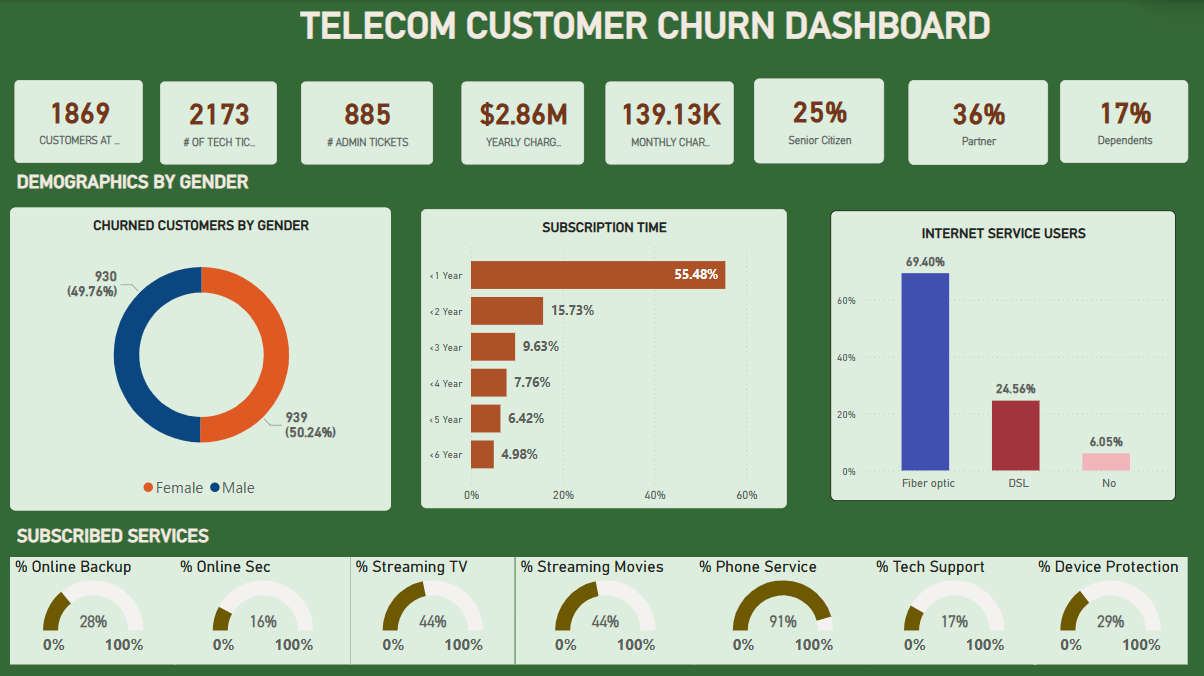

The dashboard page shown, as its layout file describes it:
{"tool":"powerbi","page":{"name":"Customer Churn Dashboard - 1","canvas":[1280,720],"ordinal":0},"visuals":[{"type":"textbox","box":[315.6,0,810.7,83.2],"z":1000},{"type":"donutChart","title":"CHURNED CUSTOMERS BY GENDER","fields":{"Category":["01 Churn-Dataset.gender"],"Y":["CountNonNull(01 Churn-Dataset.gender)"]},"box":[12,220.7,404,321.3],"z":1000,"group":"g1"},{"type":"card","fields":{"Values":["CountNonNull(01 Churn-Dataset.customerID)"]},"box":[18,86,136,88],"z":2000},{"type":"textbox","box":[0,166,630,50],"z":2000,"group":"g1"},{"type":"textbox","box":[0,542,522.6,50],"z":2000,"group":"g2"},{"type":"card","fields":{"Values":["Churn.% of Senior Citizen"]},"box":[802,84,138,90],"z":3000,"group":"g1"},{"type":"card","fields":{"Values":["Sum(01 Churn-Dataset.numTechTickets)"]},"box":[172,88,124,88],"z":3000},{"type":"card","fields":{"Values":["Churn.% of partner"]},"box":[966,86,148,90],"z":4000,"group":"g1"},{"type":"card","fields":{"Values":["Sum(01 Churn-Dataset.TotalCharges)"]},"box":[492,88,130,88],"z":4000},{"type":"card","fields":{"Values":["Sum(01 Churn-Dataset.numAdminTickets)"]},"box":[322,88,140,88],"z":5000},{"type":"group","id":"g1","title":"Group 1","box":[0,84,1262,458],"z":6000},{"type":"card","fields":{"Values":["Churn.% of Dependents"]},"box":[1126,86,136,88],"z":6000,"group":"g1"},{"type":"card","fields":{"Values":["Sum(01 Churn-Dataset.MonthlyCharges)"]},"box":[644,88,136,88],"z":7000},{"type":"clusteredBarChart","title":"SUBSCRIPTION TIME","fields":{"Y":["CountNonNull(Churn.Churn)"],"Category":["Churn.Tenure(in years)"]},"box":[448,222.8,388,317.1],"z":7000,"group":"g1"},{"type":"clusteredColumnChart","title":"INTERNET SERVICE USERS","fields":{"Category":["Churn.InternetService"],"Y":["Divide(CountNonNull(Churn.InternetService), ScopedEval(CountNonNull(Churn.InternetService), []))"]},"box":[882,224,366,308],"z":8000},{"type":"gauge","fields":{"Y":["Churn.% Phone Service"]},"box":[738,592,188,114],"z":9000},{"type":"gauge","fields":{"Y":["Churn.% Online Backup"]},"box":[12,592,176,114],"z":10000},{"type":"gauge","fields":{"Y":["Churn.% Online Sec"]},"box":[188,592,186,114],"z":11000},{"type":"gauge","fields":{"Y":["Churn.% Streaming Movies"]},"box":[548,592,190,114],"z":12000},{"type":"gauge","fields":{"Y":["Churn.% Streaming TV"]},"box":[374,592,174,114],"z":13000},{"type":"gauge","fields":{"Y":["Churn.% Device Protection"]},"box":[1098,592,164,114],"z":14000},{"type":"gauge","fields":{"Y":["Churn.% Tech Support"]},"box":[926,592,176,114],"z":15000},{"type":"group","id":"g2","title":"Group 2","box":[0,542,522,50],"z":16000}]}

Visuals, with their boxes in screenshot pixels (x1, y1, x2, y2), scaled from the page's 1280x720 canvas onto the 1204x676 screenshot:
textbox: BBox(297, 0, 1059, 78)
"CHURNED CUSTOMERS BY GENDER" donutChart: BBox(11, 207, 391, 509)
card - CountNonNull(01 Churn-Dataset.customerID): BBox(17, 81, 145, 163)
textbox: BBox(0, 156, 593, 203)
textbox: BBox(0, 509, 492, 556)
card - Churn.% of Senior Citizen: BBox(754, 79, 884, 163)
card - Sum(01 Churn-Dataset.numTechTickets): BBox(162, 83, 278, 165)
card - Churn.% of partner: BBox(909, 81, 1048, 165)
card - Sum(01 Churn-Dataset.TotalCharges): BBox(463, 83, 585, 165)
card - Sum(01 Churn-Dataset.numAdminTickets): BBox(303, 83, 435, 165)
"Group 1" group: BBox(0, 79, 1187, 509)
card - Churn.% of Dependents: BBox(1059, 81, 1187, 163)
card - Sum(01 Churn-Dataset.MonthlyCharges): BBox(606, 83, 734, 165)
"SUBSCRIPTION TIME" clusteredBarChart: BBox(421, 209, 786, 507)
"INTERNET SERVICE USERS" clusteredColumnChart: BBox(830, 210, 1174, 499)
gauge - Churn.% Phone Service: BBox(694, 556, 871, 663)
gauge - Churn.% Online Backup: BBox(11, 556, 177, 663)
gauge - Churn.% Online Sec: BBox(177, 556, 352, 663)
gauge - Churn.% Streaming Movies: BBox(515, 556, 694, 663)
gauge - Churn.% Streaming TV: BBox(352, 556, 515, 663)
gauge - Churn.% Device Protection: BBox(1033, 556, 1187, 663)
gauge - Churn.% Tech Support: BBox(871, 556, 1037, 663)
"Group 2" group: BBox(0, 509, 491, 556)
